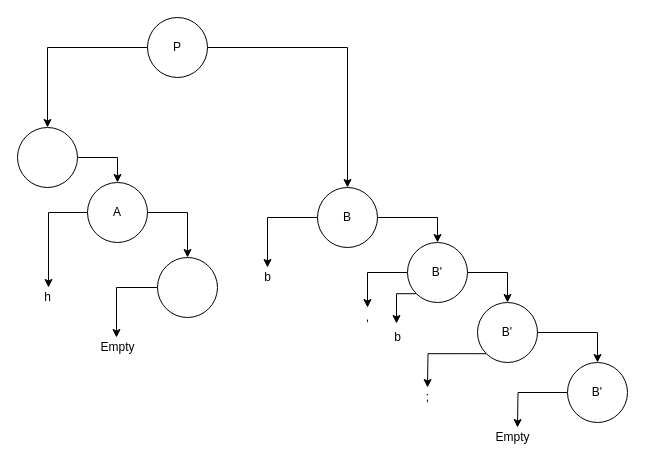
This 645x465 diagram has some shape labels left out. The shapes that lost their labels are listed below. From the top down, each one's centre as x and y in pixels, then its label:
At (x=47, y=157): "P'".
At (x=187, y=287): "A'".
